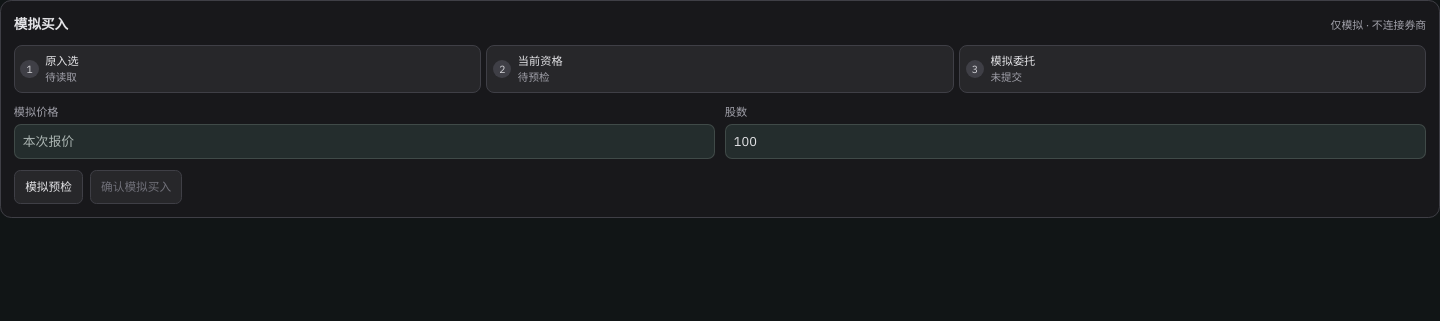
Test: shows the actual auction gate without manufacturing an order
Click the button "模拟预检": x=49, y=187 [14, 170, 83, 204]
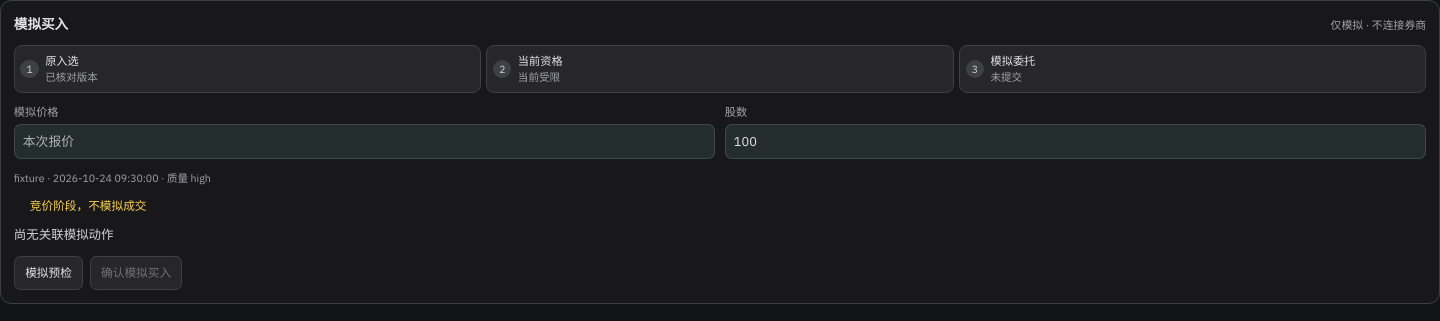
Expected: the button "确认模拟买入" is disabled, [90, 256, 182, 290]
Expected: the list item "竞价阶段，不模拟成交" is shown, [30, 198, 146, 213]
